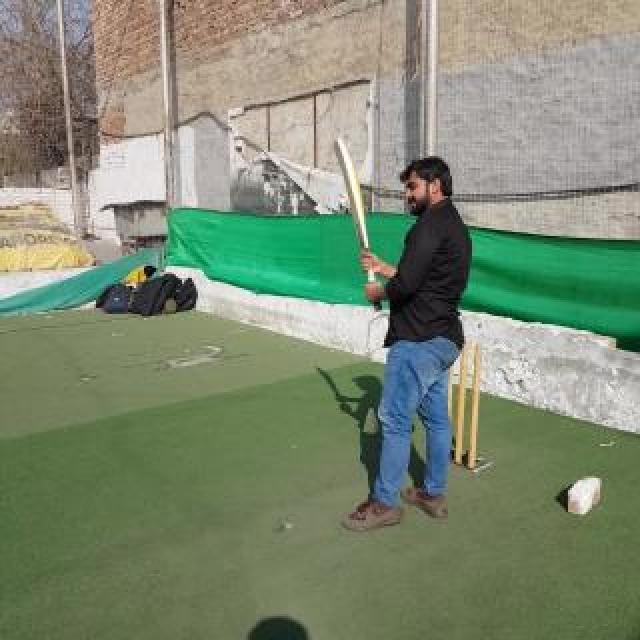bat: (334, 136, 382, 312)
